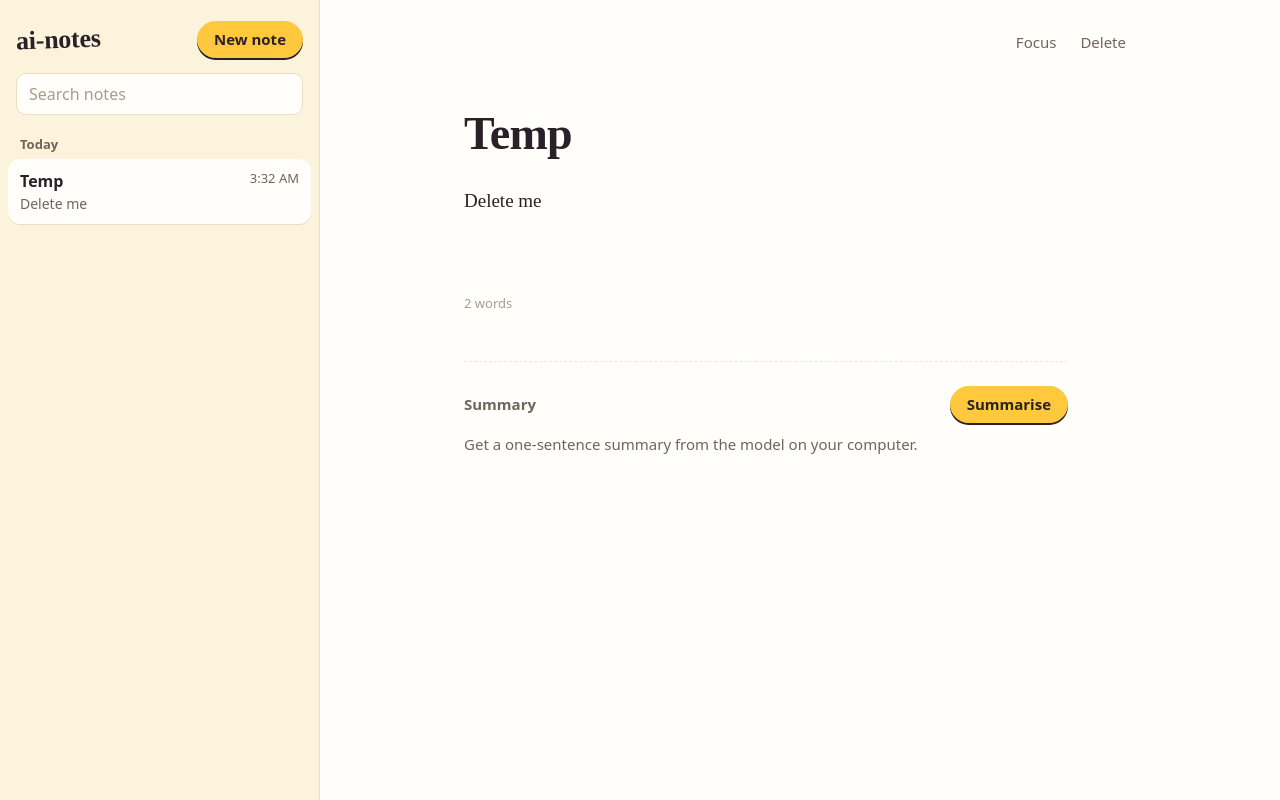
it: finding and tidying › asks before deleting a note
Check: the field showing "Temp" is shown, box [464,108,1136,161]
Click the button "Delete": [1103, 42] box [1070,25,1136,59]
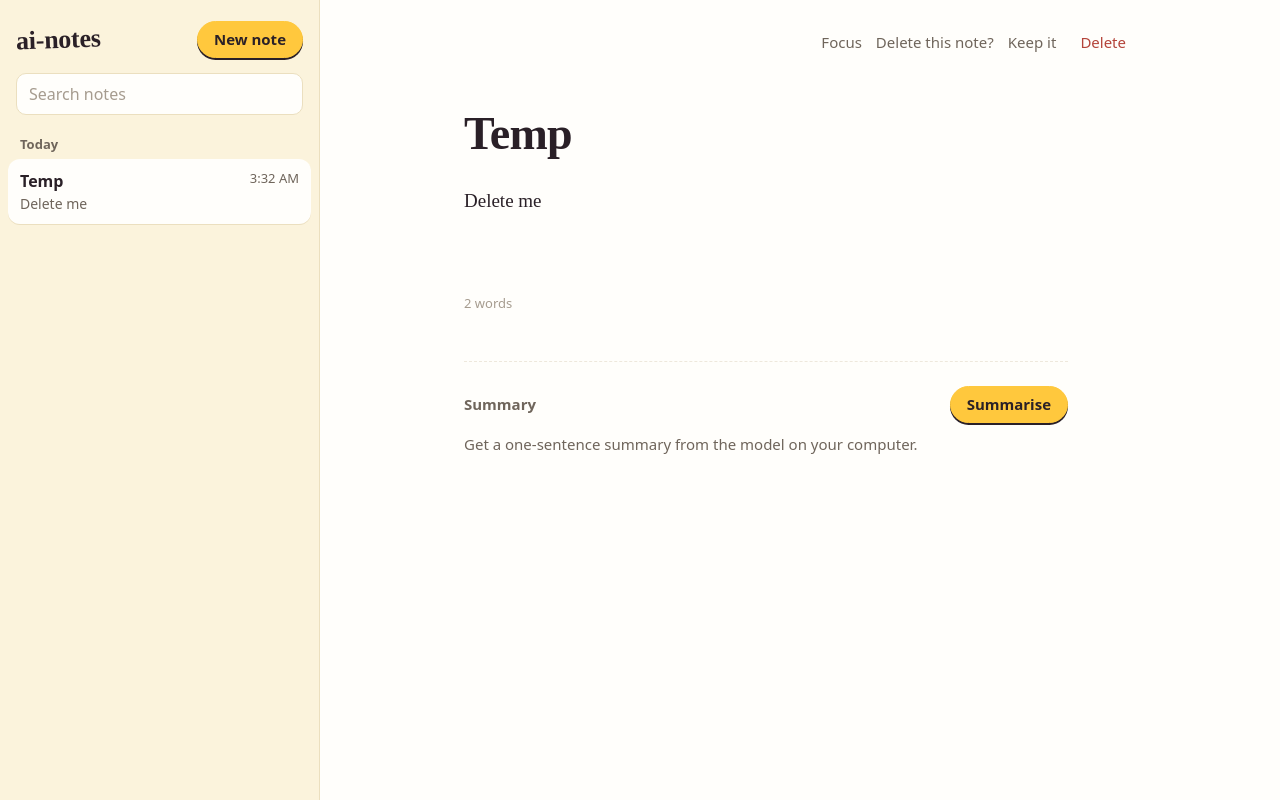
Click the button "Keep it": [1032, 42] box [998,25,1066,59]
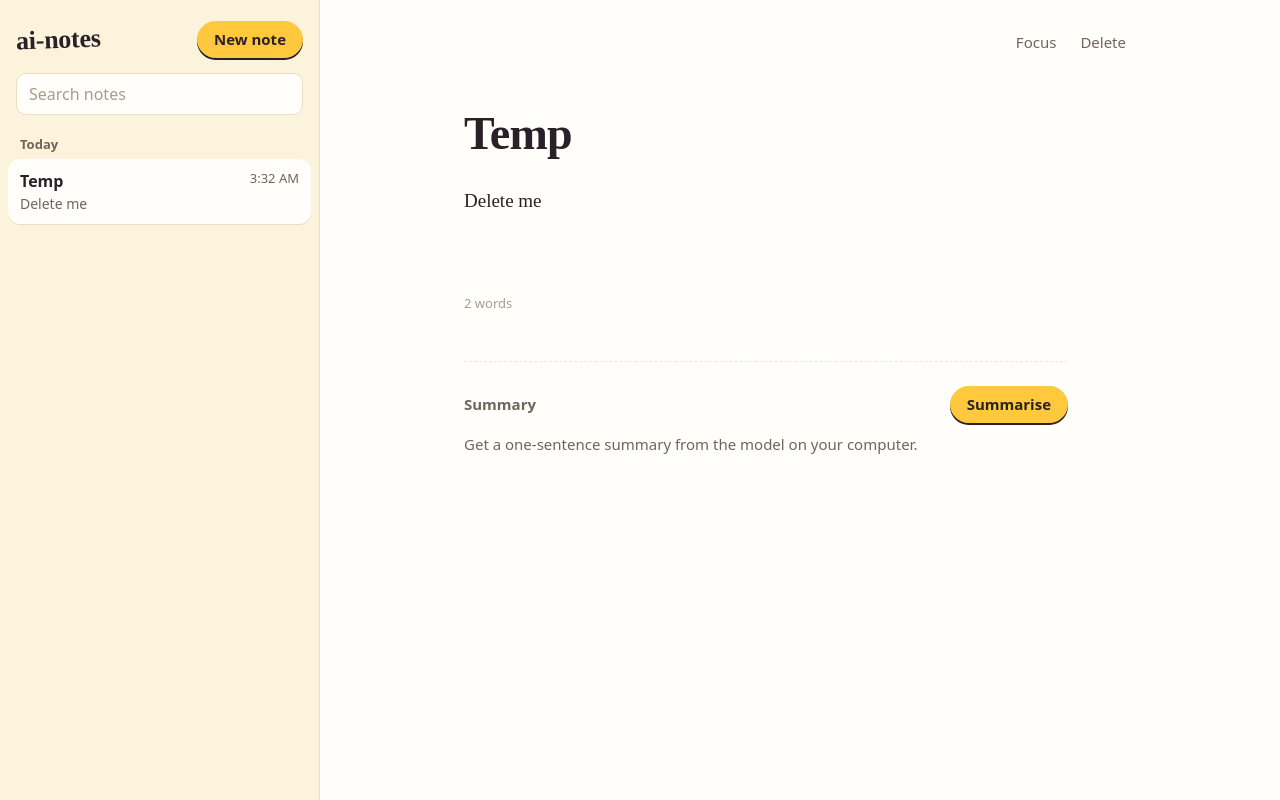
Click the button "Delete": [1103, 42] box [1070,25,1136,59]
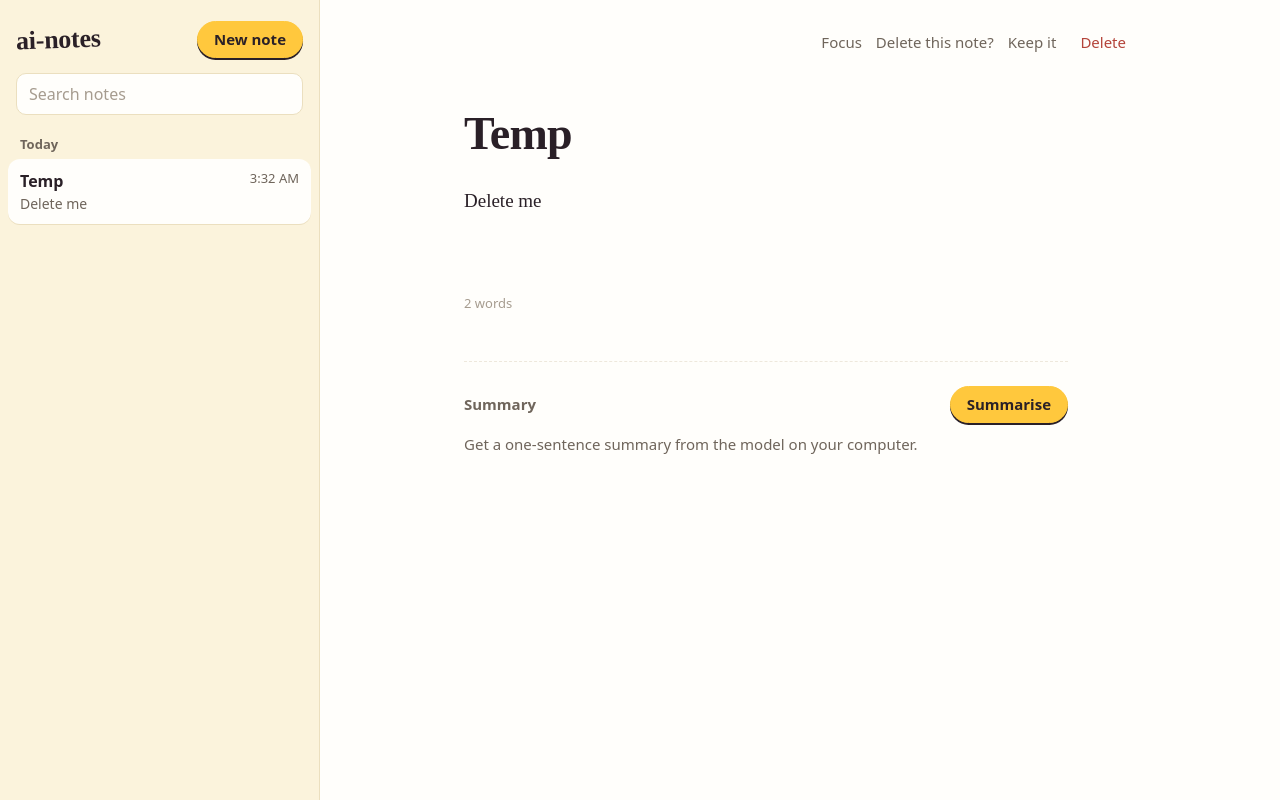
Check: the text "Delete this note?" is shown, box [876,32,994,52]
Click the button "Delete": [1103, 42] box [1070,25,1136,59]
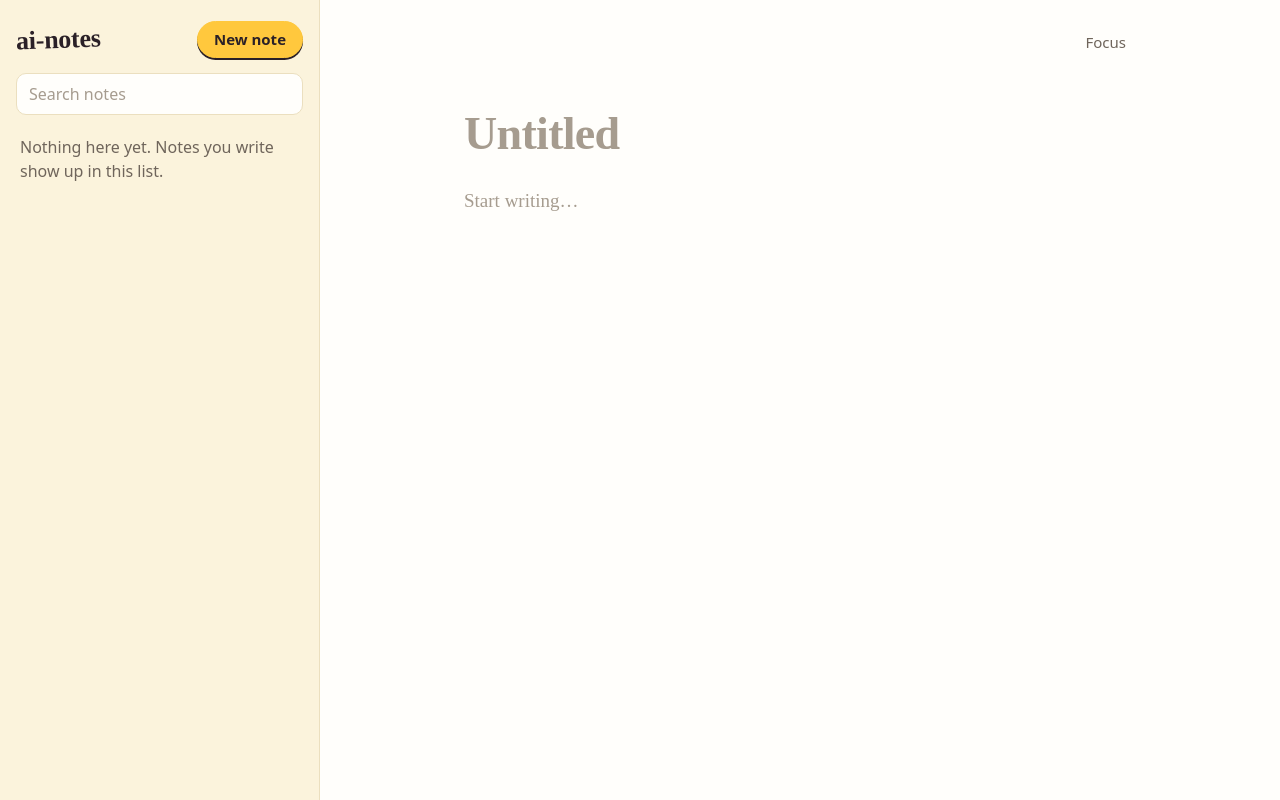
Check: the text "Nothing here yet. Notes you write show up in this list." is shown, box [20,135,299,183]
